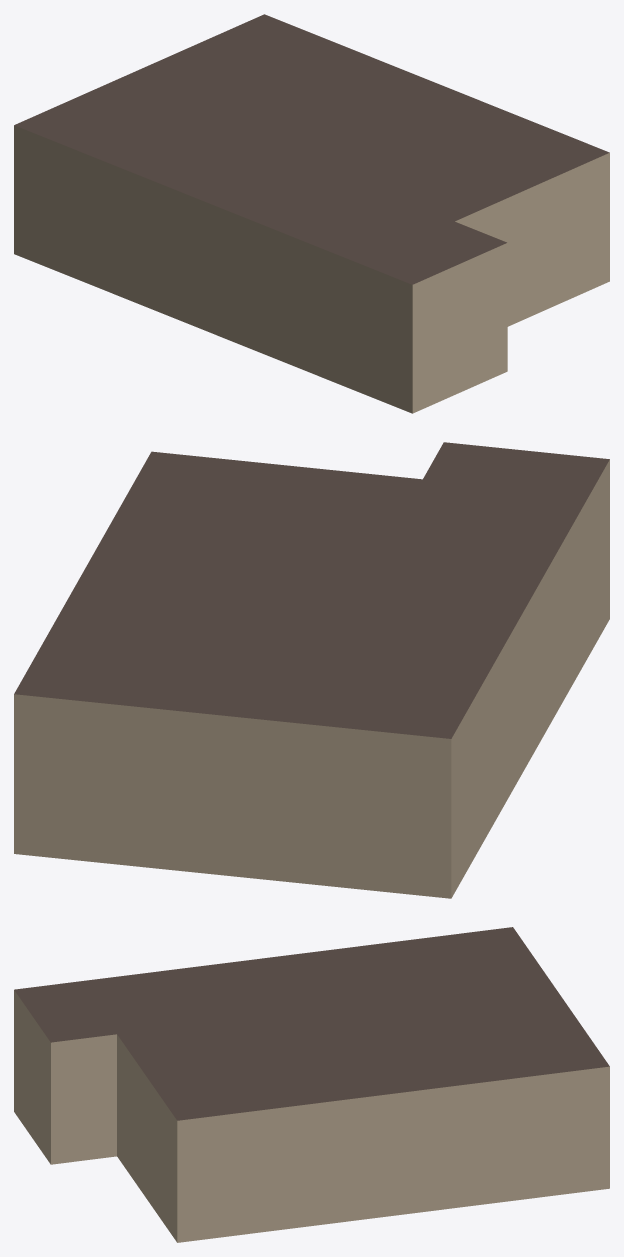
The picture shows the model from 3 angles, top to bottom: view 1: azimuth 30°, elevation 25°; view 2: azimuth 150°, elevation 25°; view 3: azimuth 270°, elevation 25°; orthographic projection. The views are drawn at different scales.
Visible parts, largest first — view 1: HP-w859082578; view 2: HP-w859082578; view 3: HP-w859082578.
Part boxes in pixels (<box>): HP-w859082578: <box>14,14,609,413</box>; HP-w859082578: <box>14,442,609,898</box>; HP-w859082578: <box>14,927,609,1242</box>.
Bounding box in the file's own units: 30.62 × 9 × 39.8.
